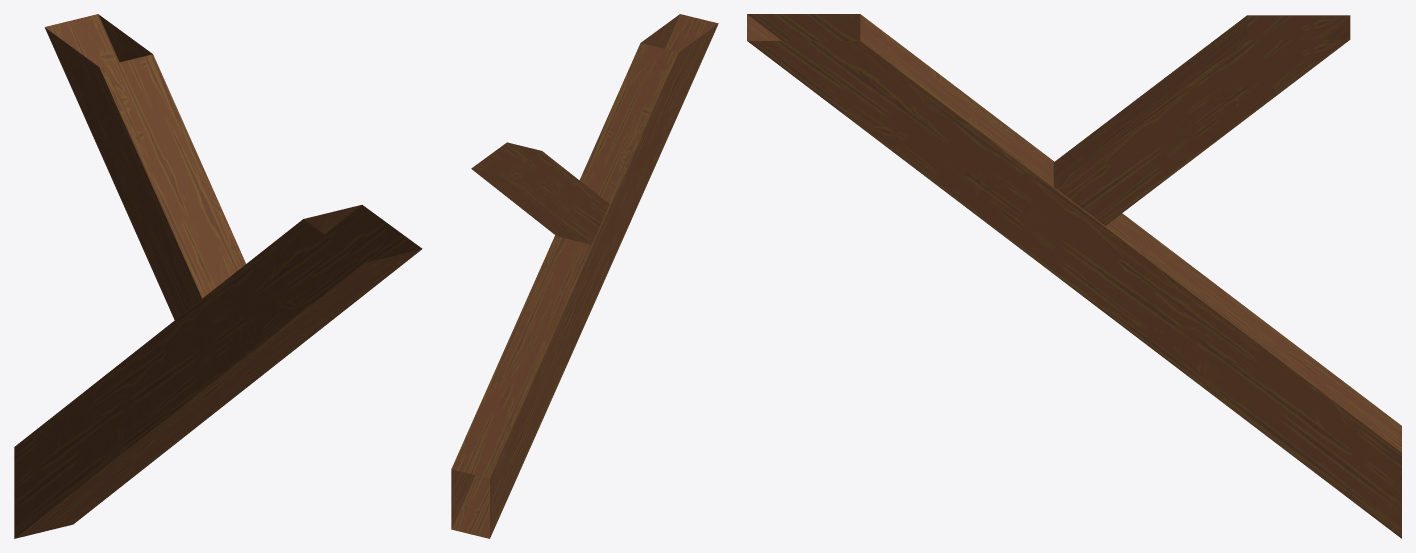
Rendered from p_Prop_Support.glb.
3 renders of one model, left to right at view 1: azimuth 30°, elevation 25°; view 2: azimuth 150°, elevation 25°; view 3: azimuth 270°, elevation 25°, orthographic. The views are drawn at different scales.
Visible parts, largest first — view 1: Prop_Support; view 2: Prop_Support; view 3: Prop_Support.
Boxes of the visible parts, <box> form: Prop_Support: <box>14,14,422,538</box>; Prop_Support: <box>451,14,718,538</box>; Prop_Support: <box>747,14,1401,538</box>.
Bounding box in the file's own units: 0.1986 × 1.71 × 2.04.
Materials: 1 (1 with a texture image).
